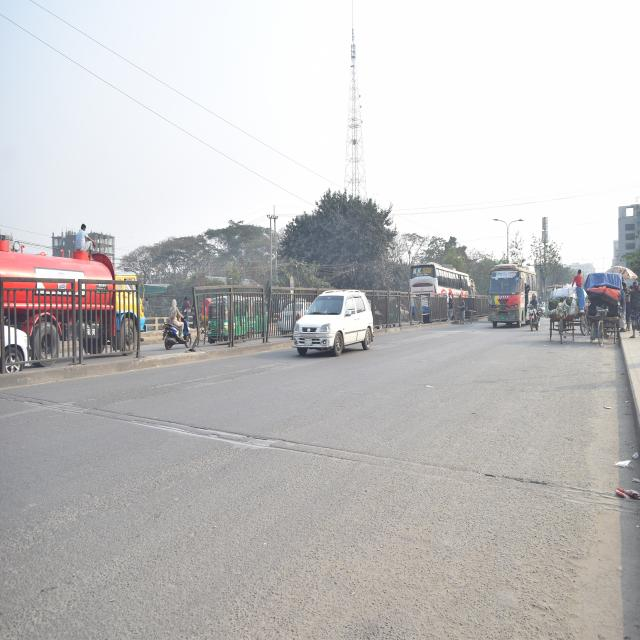bus: (485, 253, 539, 335)
car: (292, 277, 376, 358)
motorbike: (525, 298, 542, 336)
truck: (0, 218, 145, 366)
